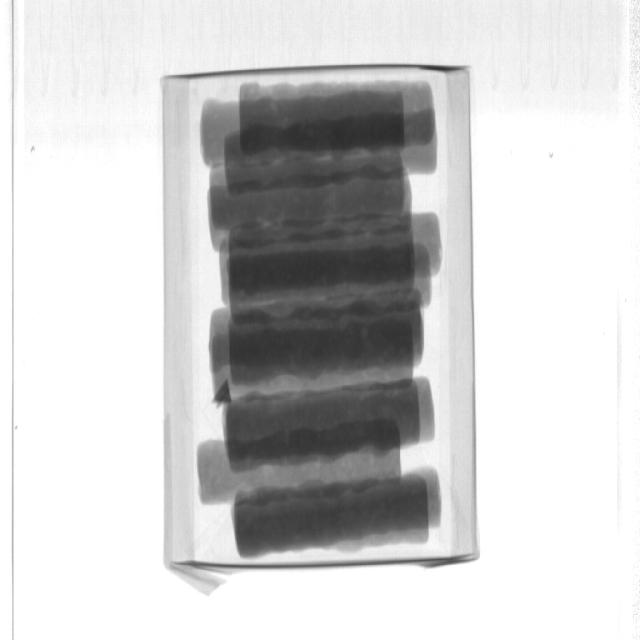ym: (212, 381, 234, 412)
